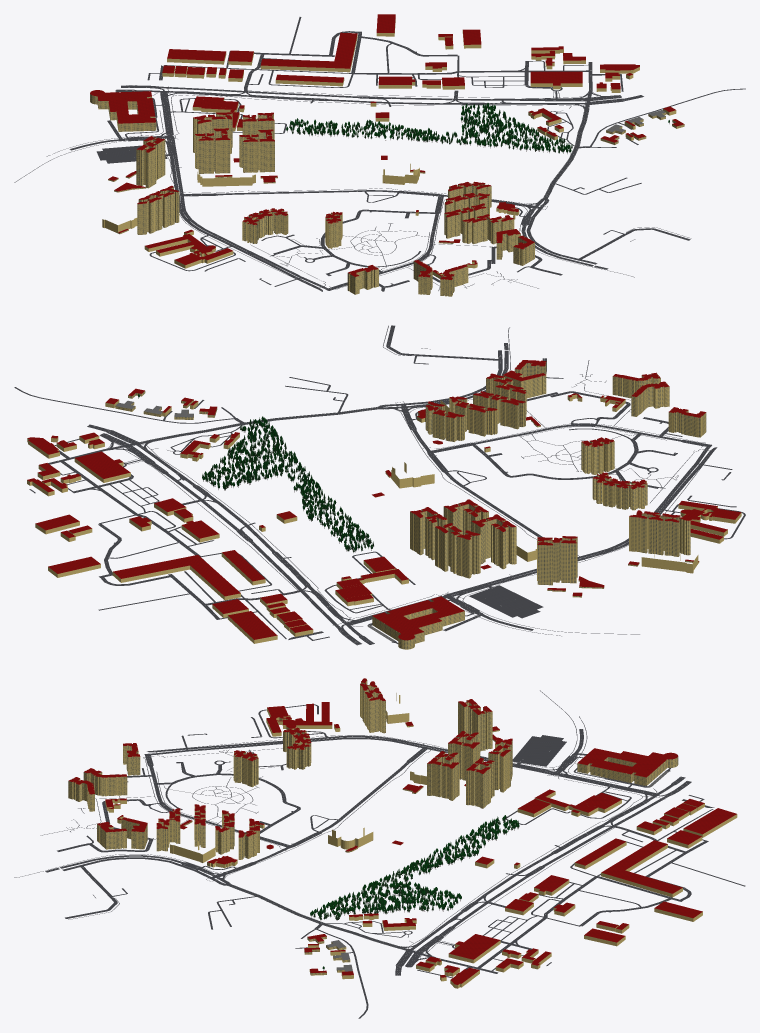
Rendered from osm3d.glb.
3 views of the same model, one above another, from view 1: azimuth 30°, elevation 25°; view 2: azimuth 150°, elevation 25°; view 3: azimuth 270°, elevation 25° (orthographic). The views are drawn at different scales.
Parts seen in each view (by area): view 1: Plaster002, ASPHALT, RoofingTiles010, Windows, TextureAtlas bf8fa158; view 2: Plaster002, ASPHALT, RoofingTiles010, Windows, TextureAtlas bf8fa158; view 3: Plaster002, ASPHALT, RoofingTiles010, Windows, TextureAtlas bf8fa158.
Part boxes in pixels (bbox=[...]): Plaster002: bbox=[90, 19, 684, 296]; ASPHALT: bbox=[14, 17, 745, 291]; RoofingTiles010: bbox=[90, 14, 684, 279]; Windows: bbox=[90, 94, 682, 296]; TextureAtlas bf8fa158: bbox=[286, 103, 669, 153]; Plaster002: bbox=[27, 362, 741, 649]; ASPHALT: bbox=[14, 325, 745, 645]; RoofingTiles010: bbox=[27, 360, 740, 640]; Windows: bbox=[115, 363, 706, 648]; TextureAtlas bf8fa158: bbox=[138, 394, 373, 552]; Plaster002: bbox=[68, 679, 737, 988]; ASPHALT: bbox=[14, 690, 745, 1018]; RoofingTiles010: bbox=[68, 678, 736, 984]; Windows: bbox=[68, 683, 678, 975]; TextureAtlas bf8fa158: bbox=[310, 815, 519, 970].
Bounding box in the file's own units: 1422 × 75.02 × 1339.
16 materials, 16 textured.
